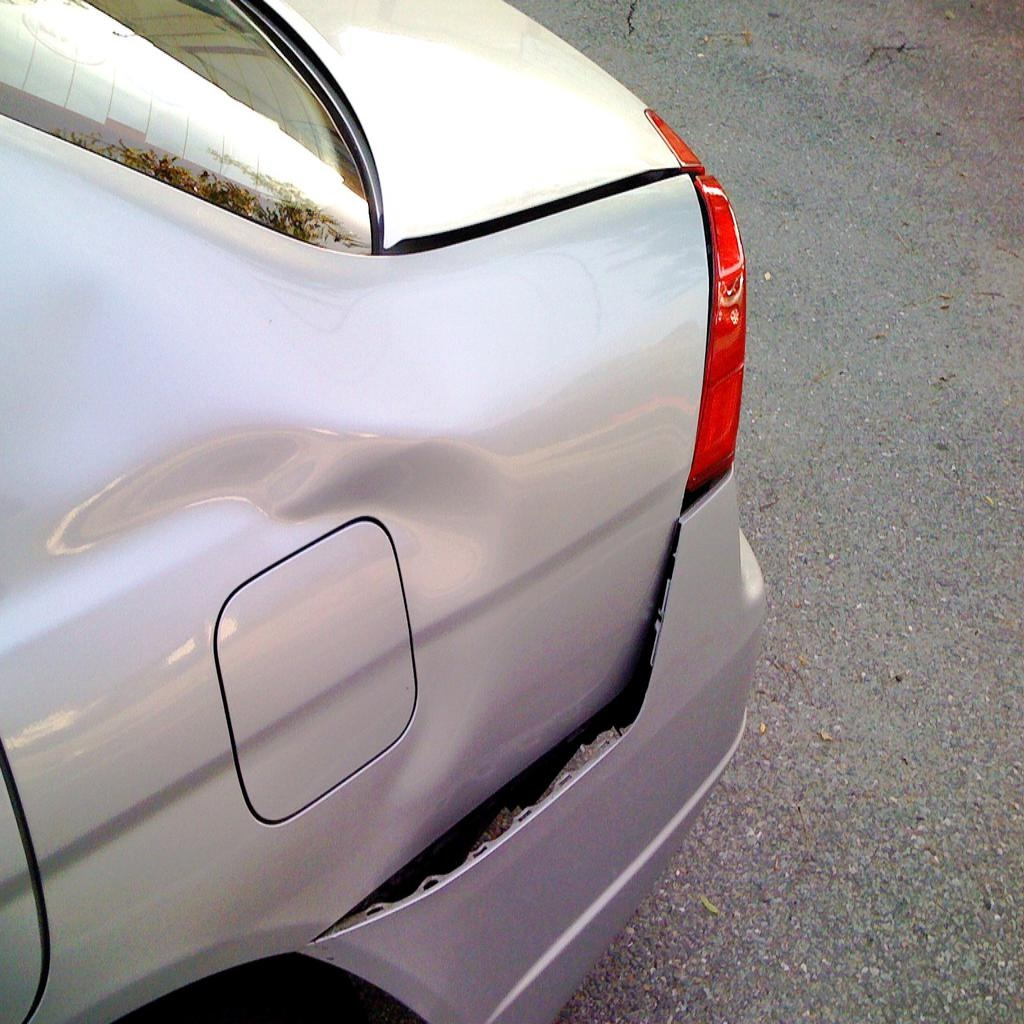Dent: (319, 466, 764, 1019), (18, 422, 542, 636)
